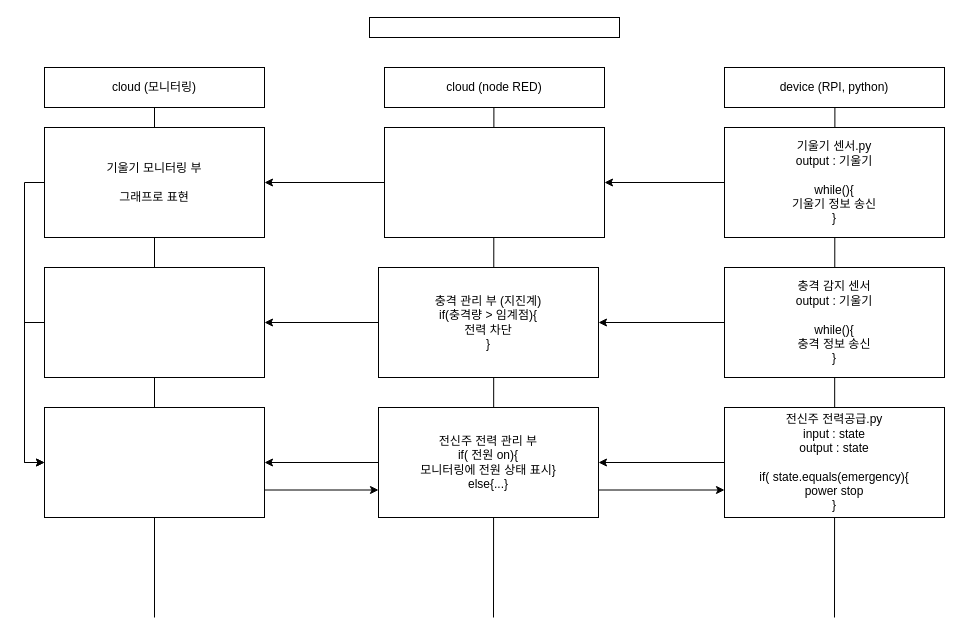
This 962x636 diagram has some shape labels left out. The shapes that lost their labels are listed below. From the top down, each one's box as (x1, y1, x2, y2) in pixels, then its label:
(368, 16, 620, 38): 전신주 관리 시스템
(384, 126, 604, 238): 기울기 관리 부 if(기울기 > 정상상태){ 전력 차단 }
(44, 266, 264, 378): 충격 모니터링 부 그래프나 게이지로 표현
(44, 406, 264, 518): 전신주 전력 모니터링 부 ON/OFF (Toggle) 로 표현 원격에서 전력 차단 기능 포함
